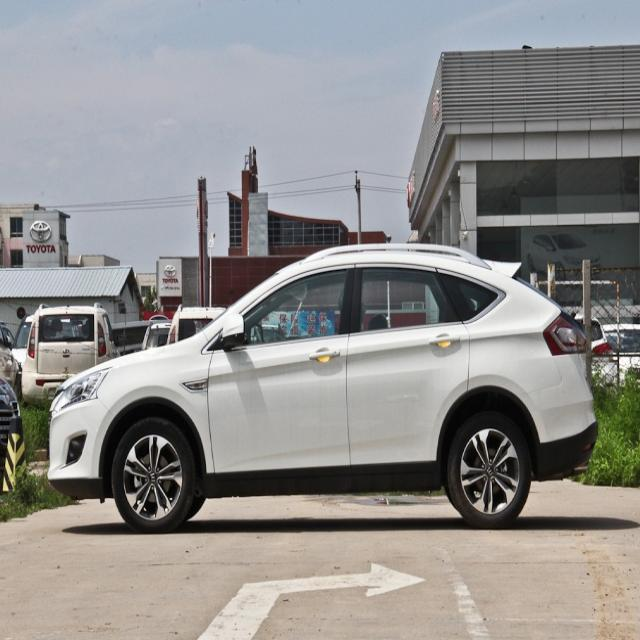back_left_side_light: (541, 308, 590, 356)
door: (344, 260, 478, 473)
front_bumper: (47, 397, 116, 500)
front_left_side_door: (206, 260, 356, 486)
front_left_side_light: (48, 364, 110, 418)
front_left_side_mirror: (220, 312, 248, 351)
rear_bumper: (517, 354, 599, 482)
wheel: (110, 416, 194, 533), (449, 410, 530, 530)
